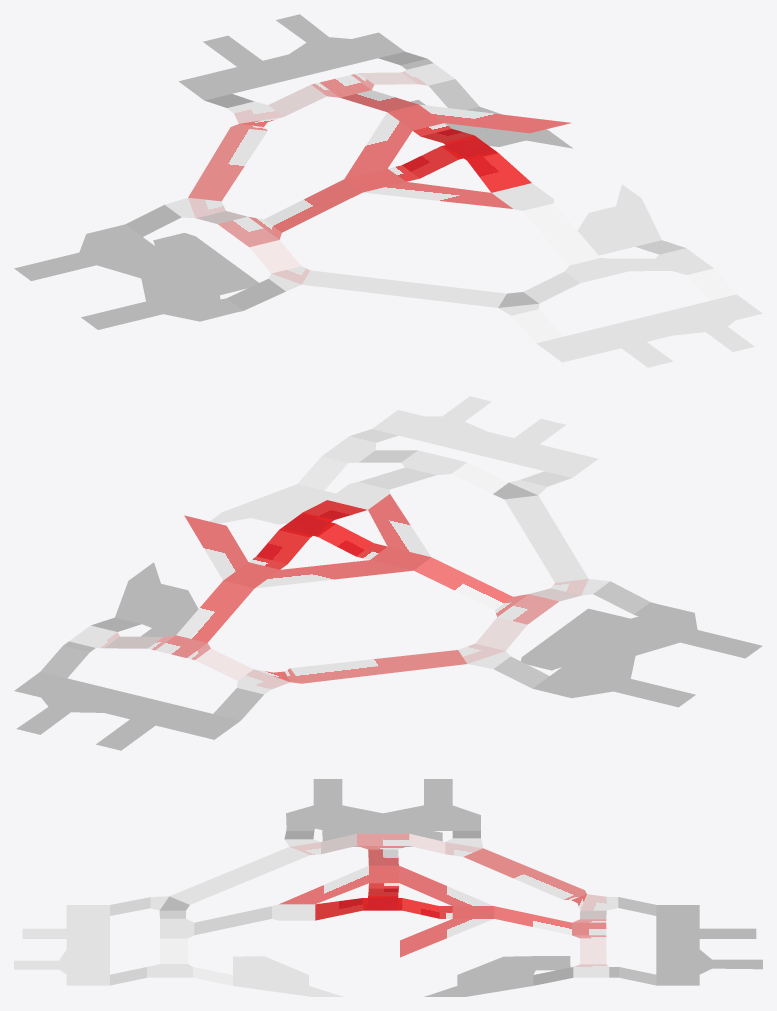
File: Navi_WOw.FBX
3 renders of one model, top to bottom at view 1: azimuth 30°, elevation 25°; view 2: azimuth 150°, elevation 25°; view 3: azimuth 270°, elevation 25°, orthographic. The views are drawn at different scales.
Visible parts, largest first — view 1: Plane001; view 2: Plane001; view 3: Plane001.
Part boxes in pixels (box(x1,y1,x2,y2)): Plane001: box(14, 14, 762, 367); Plane001: box(14, 396, 762, 750); Plane001: box(14, 779, 762, 996).
Bounding box in the file's own units: 7215 × 639 × 10471.
